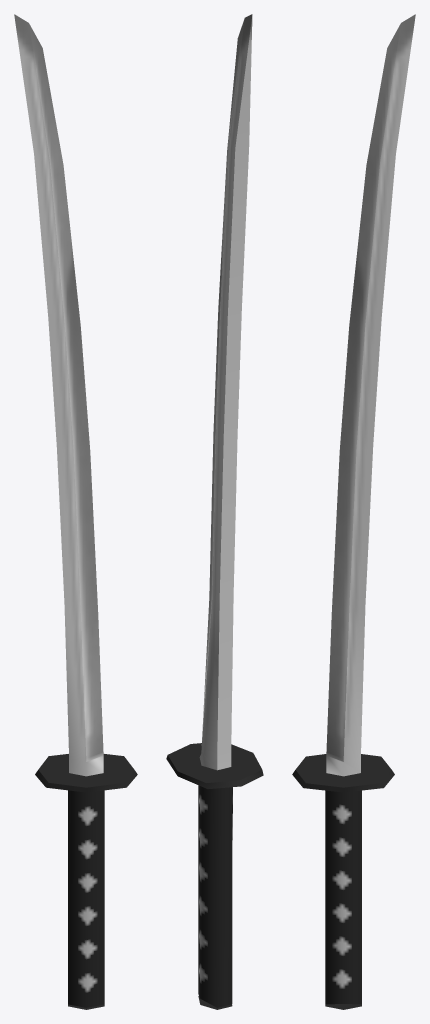
The model's file is Wakizashi.fbx.
3 renders of one model, left to right at view 1: azimuth 90°, elevation 25°; view 2: azimuth 210°, elevation 25°; view 3: azimuth 270°, elevation 25°, orthographic. The views are drawn at different scales.
Visible parts, largest first — view 1: node_2f9aac36_5747_4e4e_95cd_e76899a5701e_mesh0; view 2: node_2f9aac36_5747_4e4e_95cd_e76899a5701e_mesh0; view 3: node_2f9aac36_5747_4e4e_95cd_e76899a5701e_mesh0.
Boxes of the visible parts, x1,y1,x2,y2 form: node_2f9aac36_5747_4e4e_95cd_e76899a5701e_mesh0: (14,14,137,1009); node_2f9aac36_5747_4e4e_95cd_e76899a5701e_mesh0: (166,14,263,1009); node_2f9aac36_5747_4e4e_95cd_e76899a5701e_mesh0: (292,14,415,1009).
Bounding box in the file's own units: 0.0387 × 0.4964 × 0.0563.
